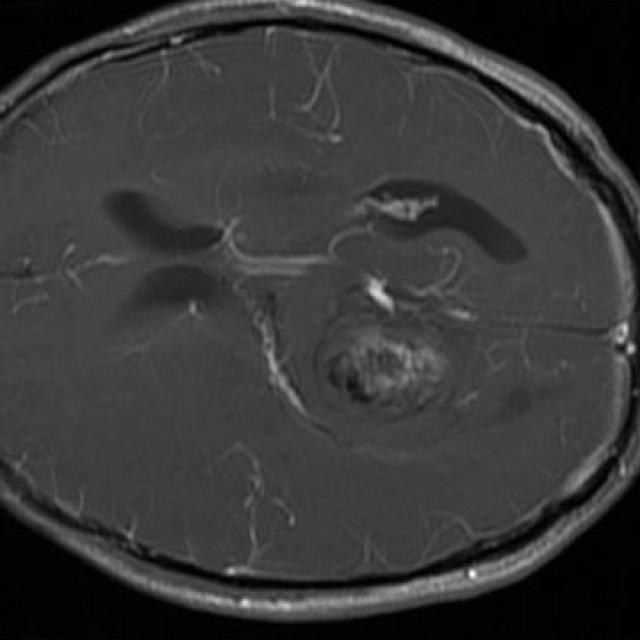glioma: (317, 314, 447, 414)
